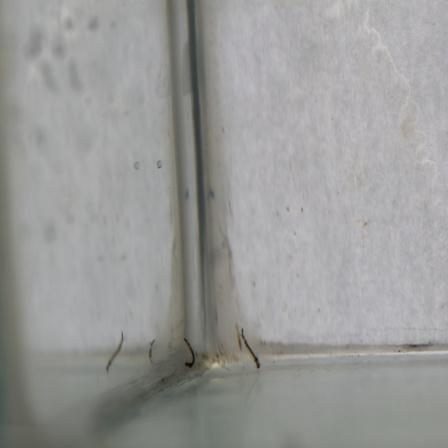Jentik-Nyamuk: (237, 324, 263, 373), (181, 333, 197, 371)
